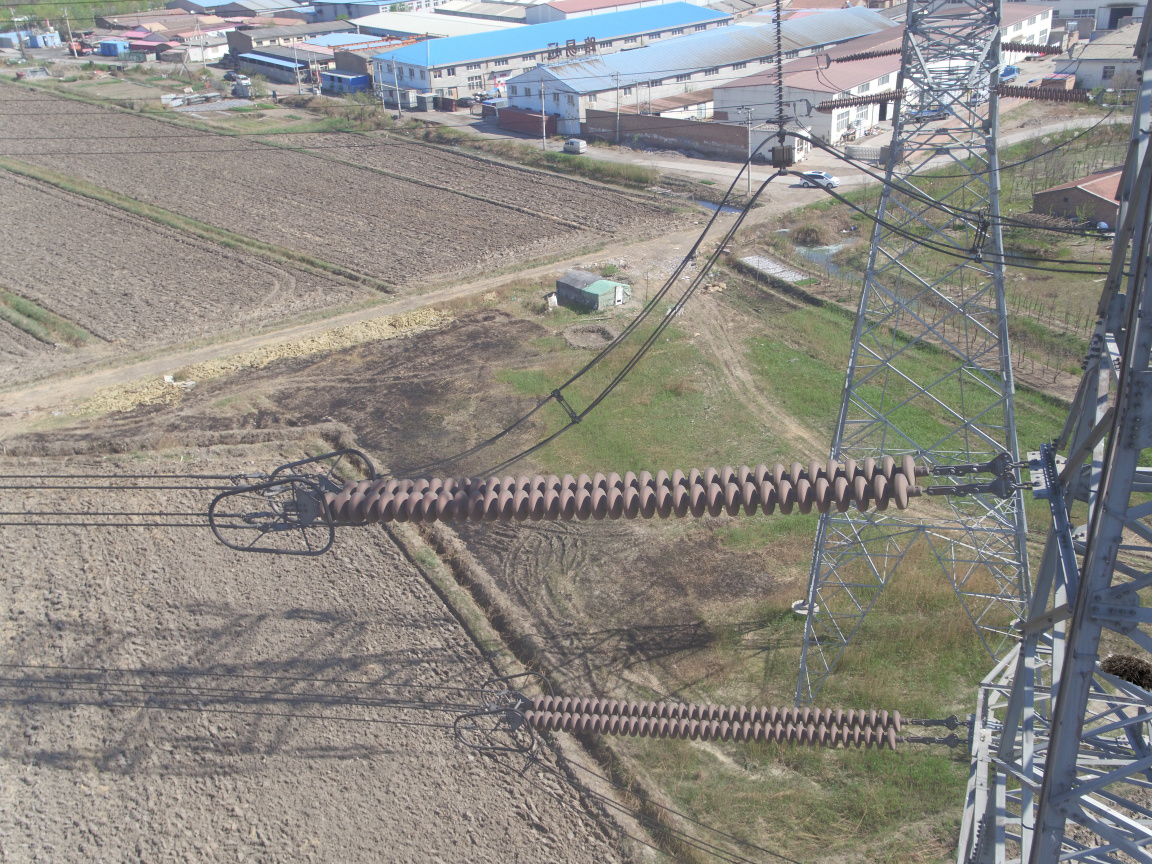nest: (1102, 651, 1152, 690)
